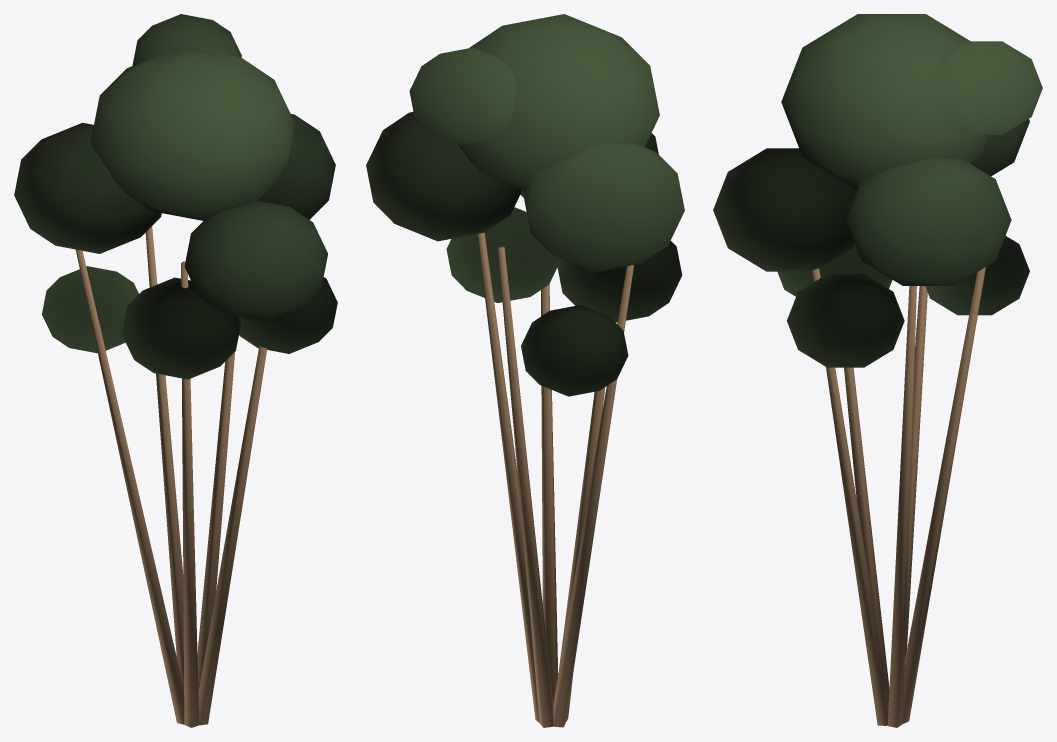
The model's file is scatter1.fbx.
The picture shows the model from 3 angles, left to right: view 1: azimuth 30°, elevation 25°; view 2: azimuth 150°, elevation 25°; view 3: azimuth 270°, elevation 25°; orthographic projection. The views are drawn at different scales.
Parts seen in each view (by area): view 1: a2000/800/scatter1; view 2: a2000/800/scatter1; view 3: a2000/800/scatter1.
Part boxes in pixels (bbox=[...]): a2000/800/scatter1: bbox=[14, 14, 337, 727]; a2000/800/scatter1: bbox=[366, 14, 684, 727]; a2000/800/scatter1: bbox=[713, 14, 1042, 727].
Size of the model in its own units: 1.91 by 4.19 by 1.79.
